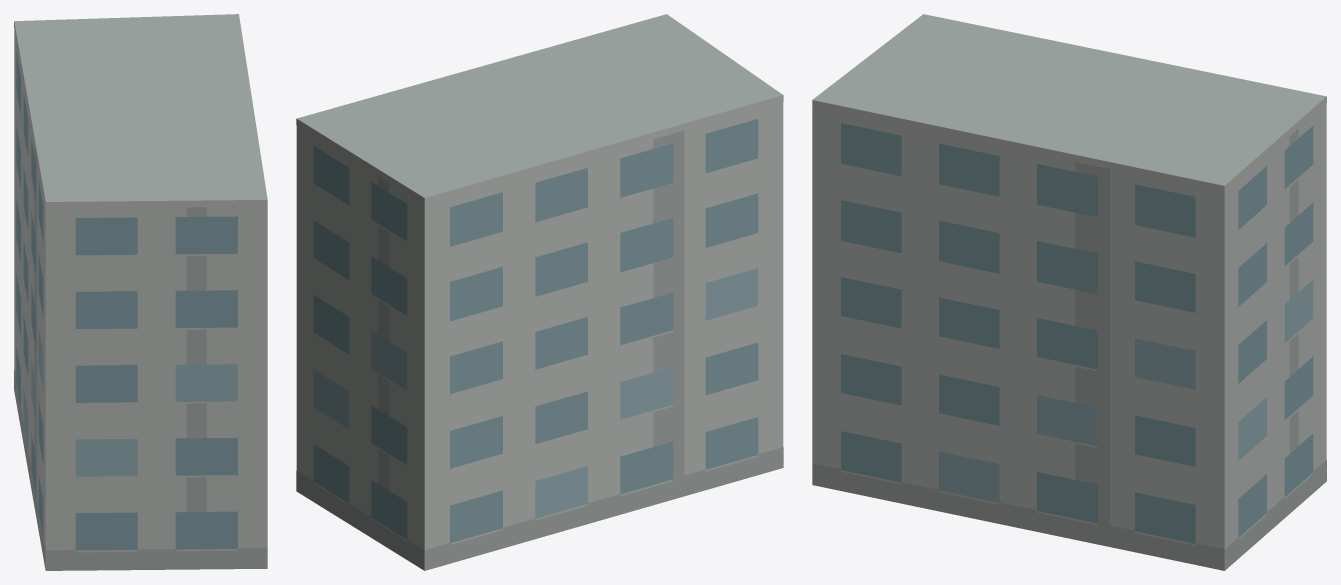
The model's file is survey-upis-32884394.glb.
3 views of the same model, side by side, from view 1: azimuth 30°, elevation 25°; view 2: azimuth 150°, elevation 25°; view 3: azimuth 270°, elevation 25° (orthographic). The views are drawn at different scales.
Parts seen in each view (by area): view 1: survey-upis-32884394.tmp; view 2: survey-upis-32884394.tmp; view 3: survey-upis-32884394.tmp.
Boxes of the visible parts, box(x1,y1,x2,y2) form: survey-upis-32884394.tmp: box(14, 14, 267, 570); survey-upis-32884394.tmp: box(296, 14, 783, 570); survey-upis-32884394.tmp: box(812, 14, 1326, 570).
Bounding box in the file's own units: 12.65 × 13.2 × 16.
